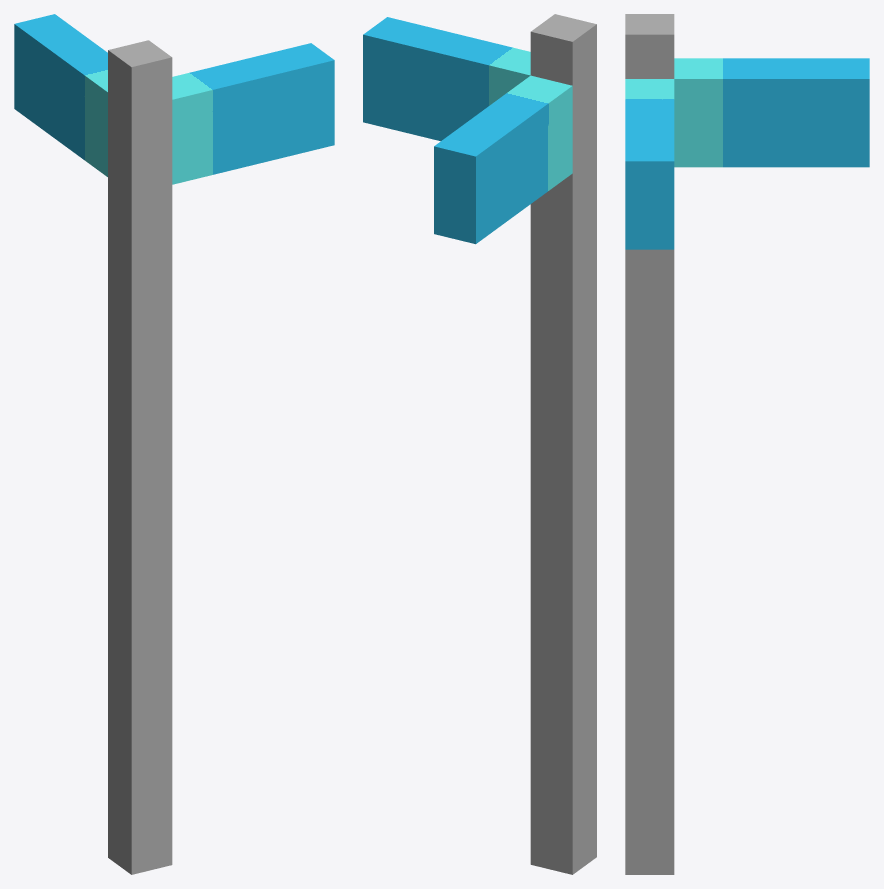
Rendered from obj_sign6.fbx.
3 renders of one model, left to right at view 1: azimuth 30°, elevation 25°; view 2: azimuth 150°, elevation 25°; view 3: azimuth 270°, elevation 25°, orthographic. The views are drawn at different scales.
Parts seen in each view (by area): view 1: obj_sign6; view 2: obj_sign6; view 3: obj_sign6.
Boxes of the visible parts, left/top/right/bottom form: obj_sign6: left=14, top=14, right=334, bottom=874; obj_sign6: left=363, top=14, right=596, bottom=874; obj_sign6: left=625, top=14, right=869, bottom=874.
Size of the model in its own units: 0.5 by 0.5 by 1.9.
Materials: 1 (1 with a texture image).
